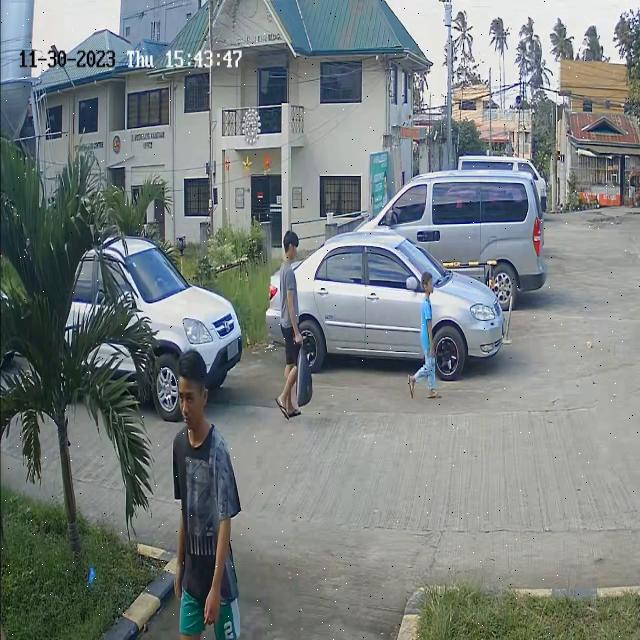garbage_dumping: (286, 332, 320, 400)
